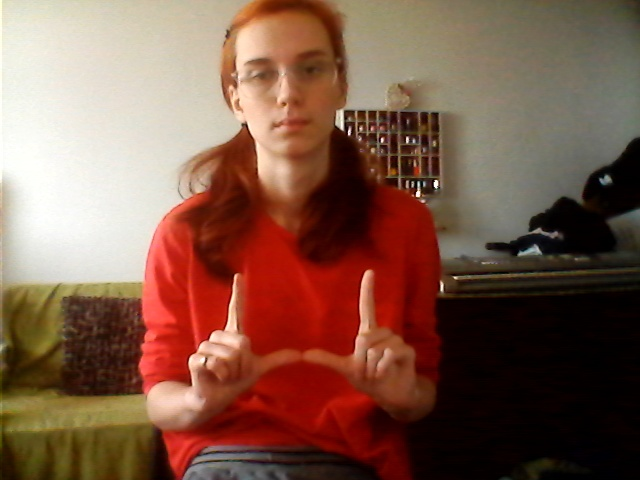u: (176, 265, 428, 413)
